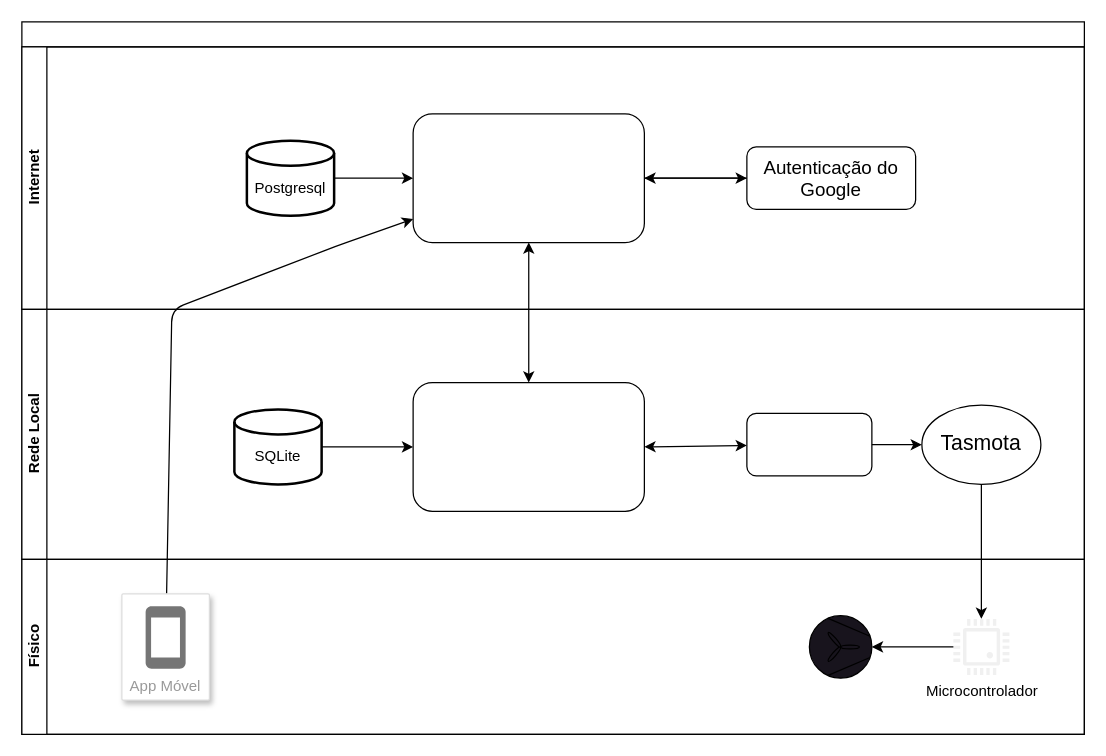
Image size: 1106x756. Some labels were removed from this diagram. The centre of each missing label's shape, as x and y in pixels:
"Ar-condicionado" goes at point (840, 646).
"Drivers" goes at point (809, 444).
"Maestro" goes at point (528, 177).
"Opus" goes at point (528, 446).
